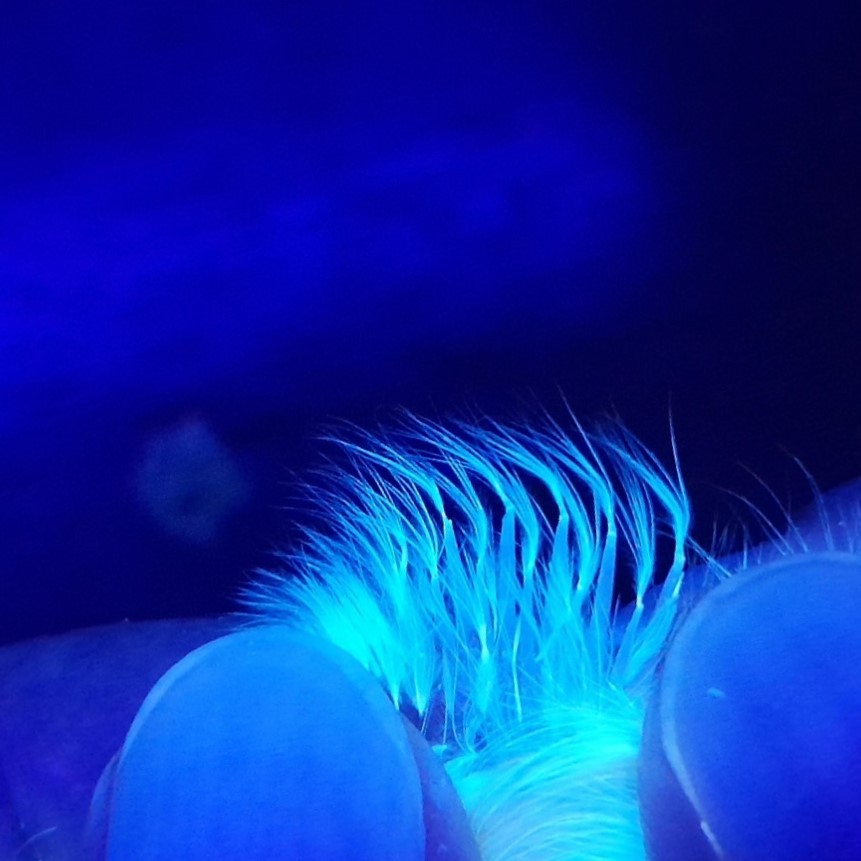female: (360, 483, 692, 771)
